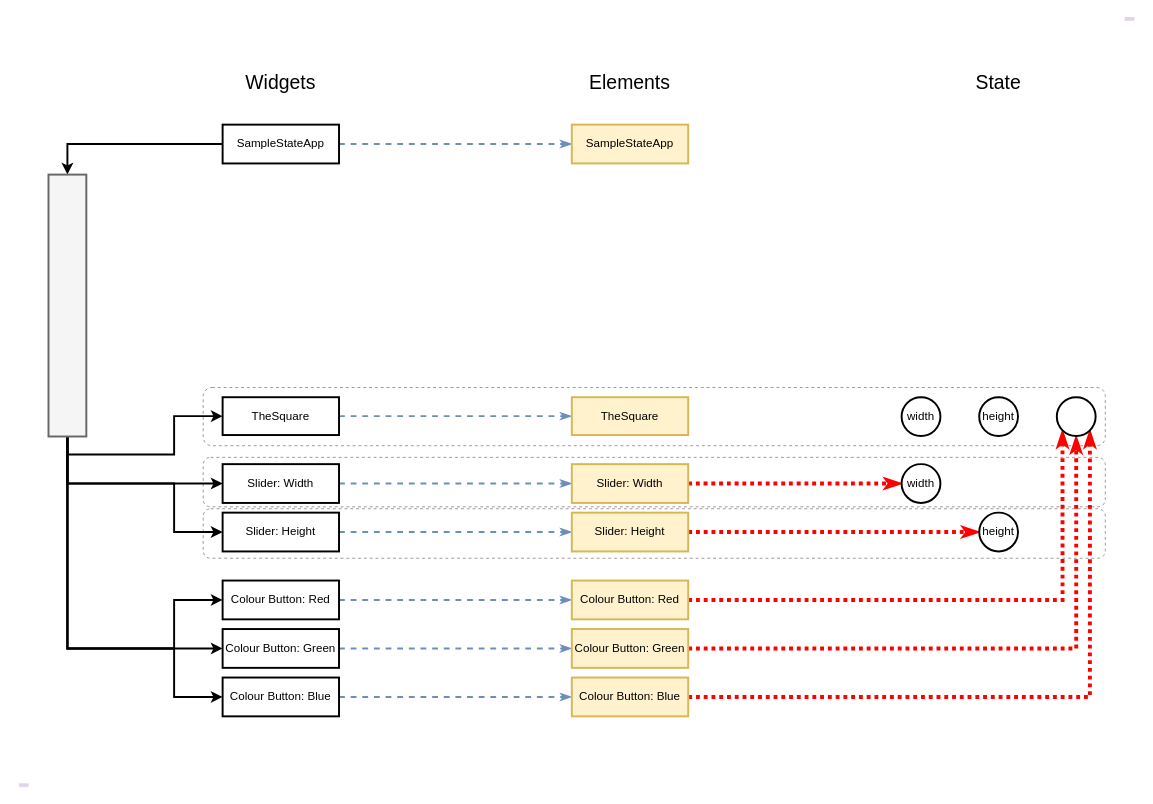
Some shapes in this 1153 by 804 pixel diagram are drawn without their labels. The shapes that lost their labels are listed below. From the top down, each one's centre as x and y in pixels, then its label:
At pixel 67 305: "Some stuff that makes it appear on the screen".
At pixel 1075 416: "colour".
